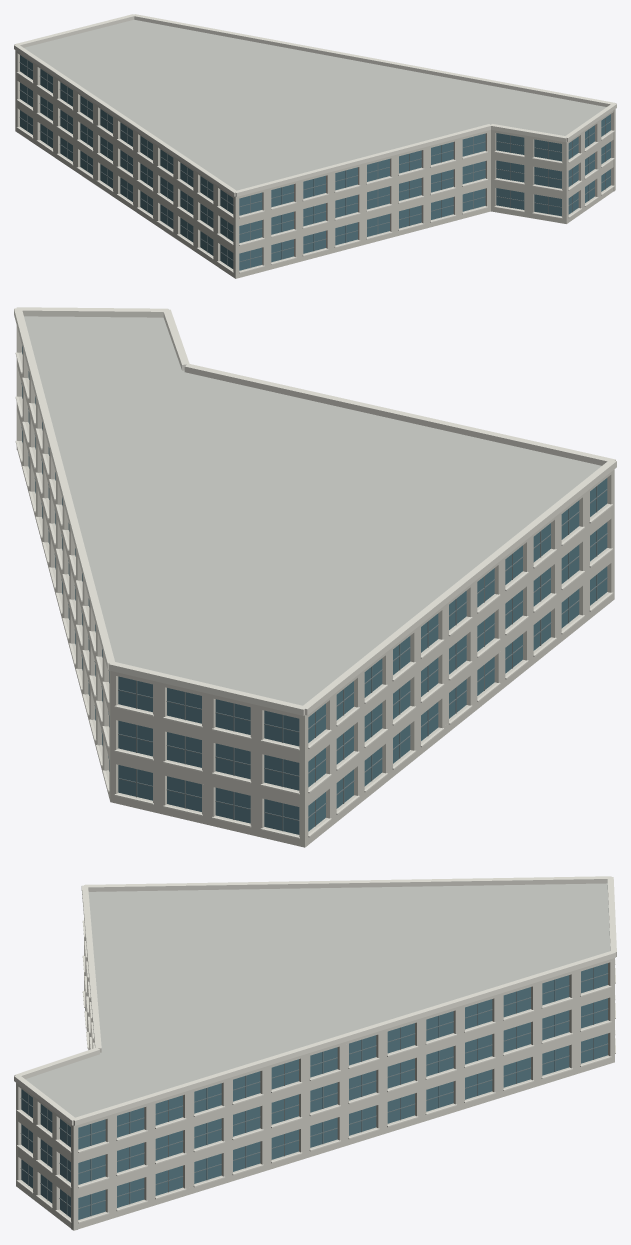
3 renders of one model, top to bottom at view 1: azimuth 30°, elevation 25°; view 2: azimuth 150°, elevation 25°; view 3: azimuth 270°, elevation 25°, orthographic. The views are drawn at different scales.
Visible parts, largest first — view 1: roof, wall, glass, trim, metal; view 2: roof, wall, glass, trim, metal; view 3: roof, wall, glass, trim, metal.
Part boxes in pixels (x1,y1,x2,y2): roof: [24, 19, 606, 190]; wall: [15, 50, 615, 278]; glass: [20, 55, 610, 270]; trim: [14, 14, 616, 273]; metal: [19, 60, 611, 267]; roof: [24, 316, 601, 705]; wall: [16, 326, 614, 847]; glass: [22, 346, 607, 834]; trim: [14, 307, 616, 838]; metal: [21, 382, 607, 831]; roof: [25, 883, 610, 1117]; wall: [16, 919, 614, 1230]; glass: [21, 963, 607, 1219]; trim: [14, 876, 616, 1223]; metal: [20, 967, 608, 1216].
Size of the model in its own units: 46.28 by 9.74 by 48.18.
